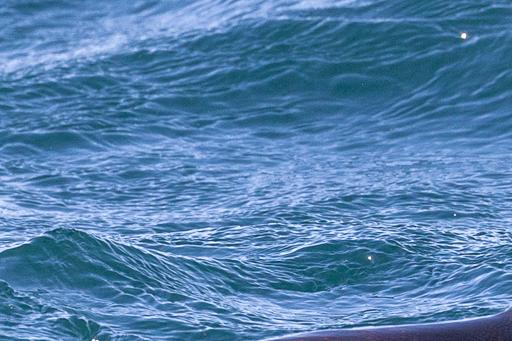Southern Rockhopper Penguin: (51, 202, 512, 341)
